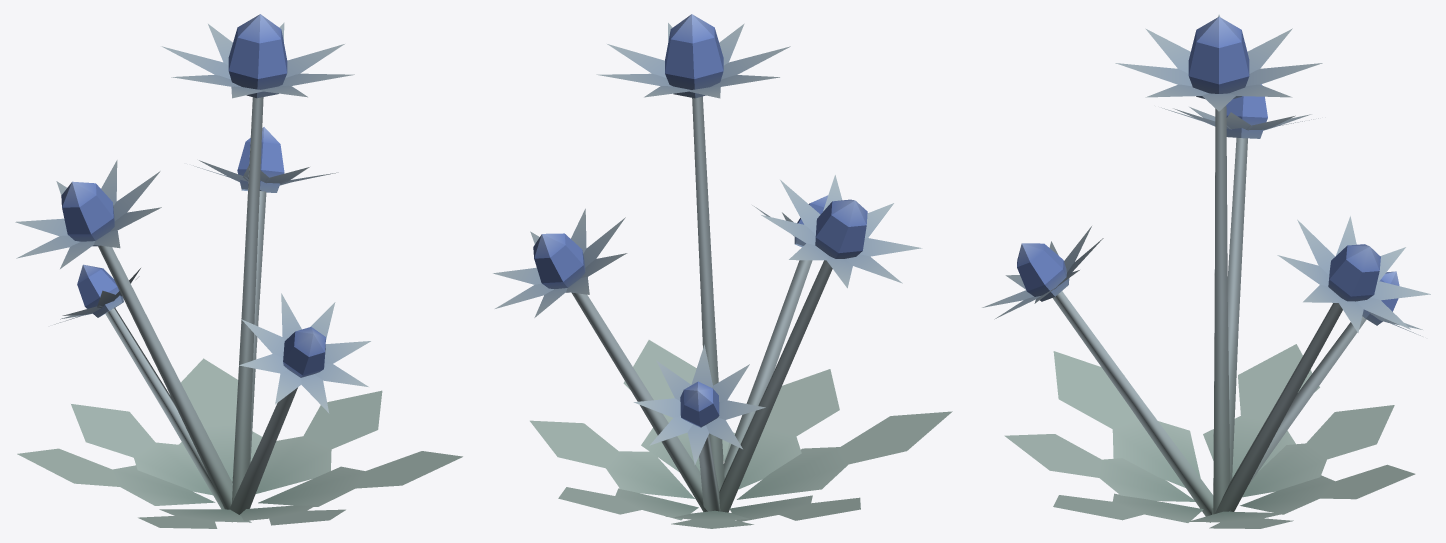
File: east_seaholly.glb
3 views of the same model, side by side, from view 1: azimuth 30°, elevation 25°; view 2: azimuth 150°, elevation 25°; view 3: azimuth 270°, elevation 25° (orthographic). The views are drawn at different scales.
Visible parts, largest first — view 1: east_seaholly; view 2: east_seaholly; view 3: east_seaholly.
Part boxes in pixels (x1,y1,x2,y2): east_seaholly: (15,14,462,528); east_seaholly: (493,14,952,528); east_seaholly: (982,14,1430,528).
Size of the model in its own units: 0.6069 by 0.783 by 0.6188.
